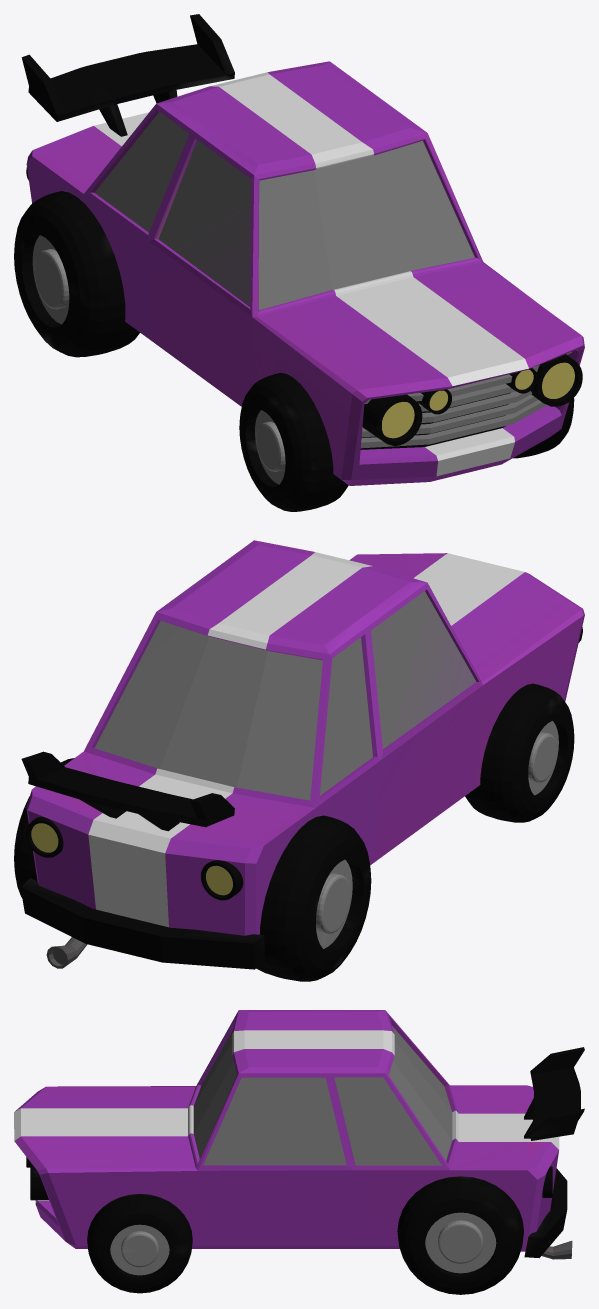
The model's file is CarroRosa.fbx.
The picture shows the model from 3 angles, top to bottom: view 1: azimuth 30°, elevation 25°; view 2: azimuth 150°, elevation 25°; view 3: azimuth 270°, elevation 25°; orthographic projection. The views are drawn at different scales.
Parts seen in each view (by area): view 1: Carro.Roxo; view 2: Carro.Roxo; view 3: Carro.Roxo.
Boxes of the visible parts, x1=… form: Carro.Roxo: x1=14, y1=14, x2=584, y2=511; Carro.Roxo: x1=14, y1=540, x2=584, y2=981; Carro.Roxo: x1=14, y1=1010, x2=584, y2=1294.
Size of the model in its own units: 2.54 by 2.3 by 5.7.
